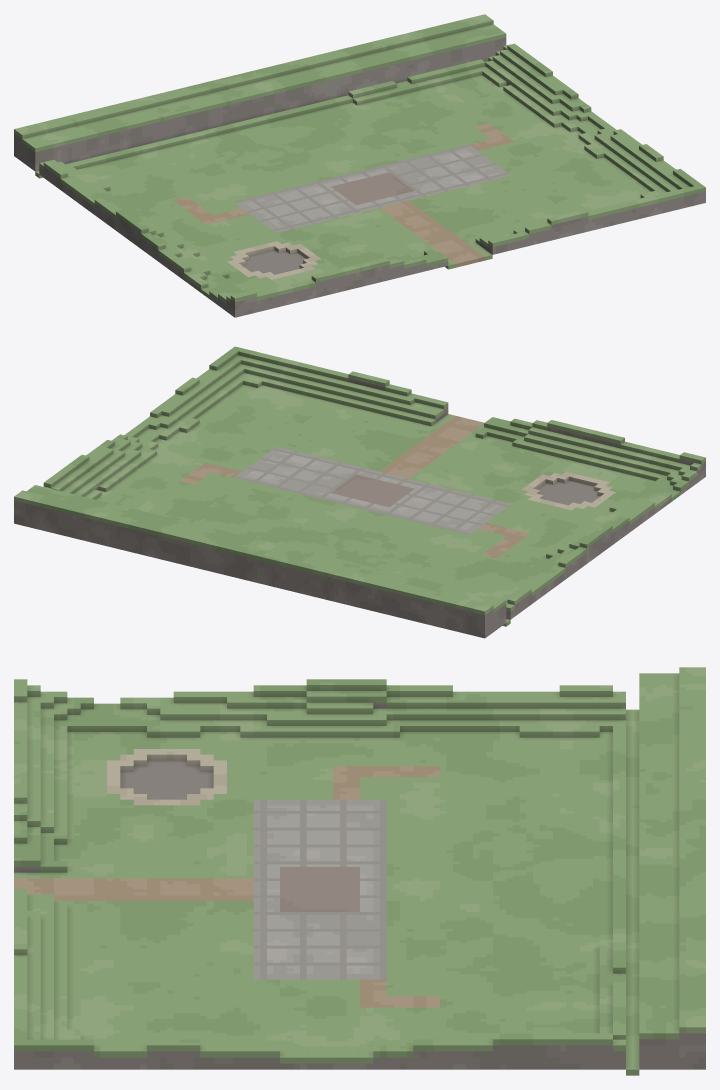
File: terrain_village.glb
3 renders of one model, top to bottom at view 1: azimuth 30°, elevation 25°; view 2: azimuth 150°, elevation 25°; view 3: azimuth 270°, elevation 25°, orthographic. The views are drawn at different scales.
Parts seen in each view (by area): view 1: geometry_0; view 2: geometry_0; view 3: geometry_0.
Boxes of the visible parts, box(x1,y1,x2,y2) form: geometry_0: box(14, 14, 705, 317); geometry_0: box(14, 346, 705, 638); geometry_0: box(14, 667, 705, 1075).
Bounding box in the file's own units: 64 × 5 × 52.
